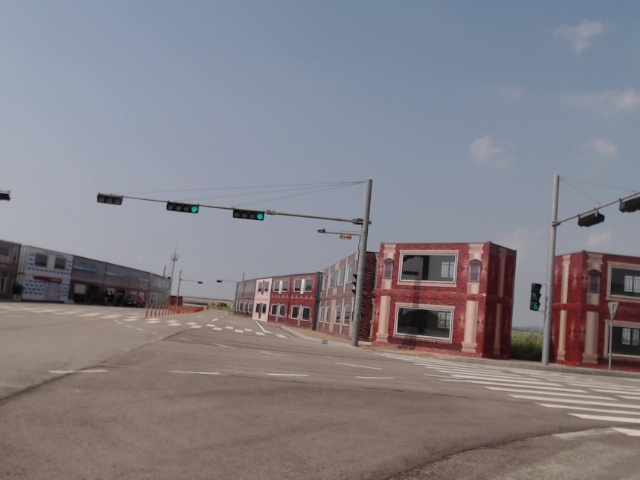straight_green_4: (232, 208, 264, 221), (167, 202, 198, 214)
